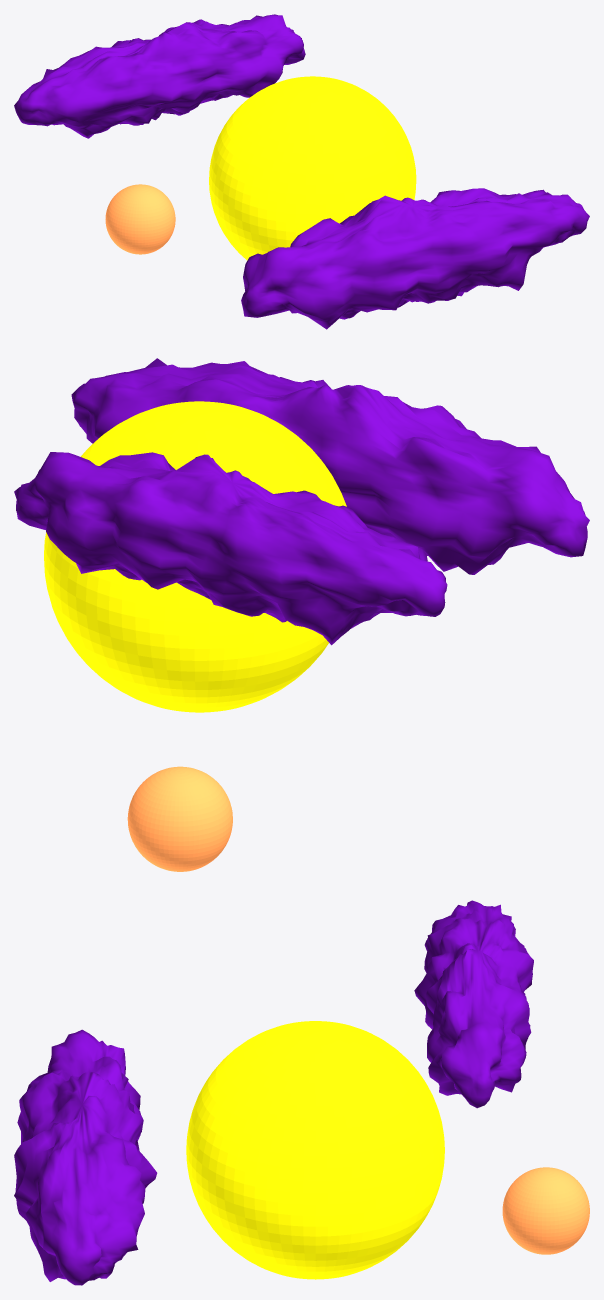
File: revolve.glb
3 views of the same model, one above another, from view 1: azimuth 30°, elevation 25°; view 2: azimuth 150°, elevation 25°; view 3: azimuth 270°, elevation 25° (orthographic). The views are drawn at different scales.
Parts seen in each view (by area): view 1: Sphere.002, Sphere, Sphere.003, Sphere.001; view 2: Sphere.003, Sphere.002, Sphere, Sphere.001; view 3: Sphere, Sphere.002, Sphere.003, Sphere.001.
Part boxes in pixels (<box>): Sphere.002: <box>241,188,589,329</box>; Sphere: <box>209,76,416,260</box>; Sphere.003: <box>14,14,305,138</box>; Sphere.001: <box>105,184,175,254</box>; Sphere.003: <box>14,452,447,645</box>; Sphere.002: <box>71,358,589,574</box>; Sphere: <box>44,401,346,712</box>; Sphere.001: <box>127,766,232,871</box>; Sphere: <box>186,1021,444,1279</box>; Sphere.002: <box>14,1029,157,1285</box>; Sphere.003: <box>414,900,533,1108</box>; Sphere.001: <box>502,1167,589,1254</box>.
Size of the model in its own units: 8.98 by 5.23 by 8.81.
